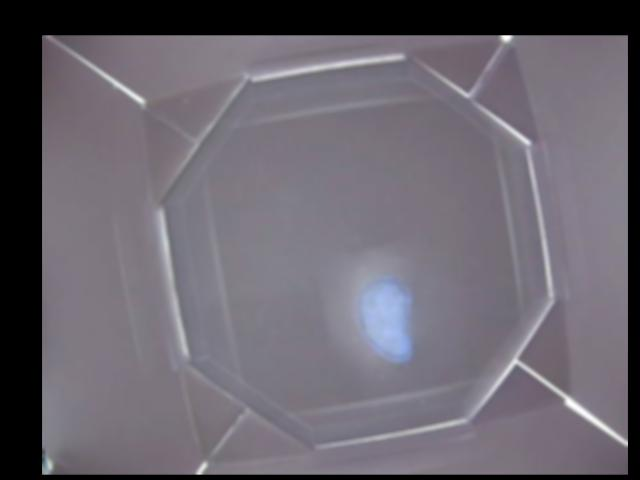Pebble: (359, 280, 412, 362)
